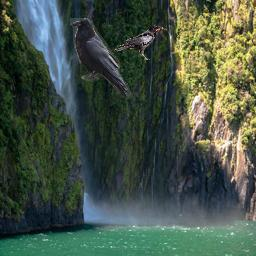Crow: (70, 18, 132, 99), (114, 24, 168, 60)
